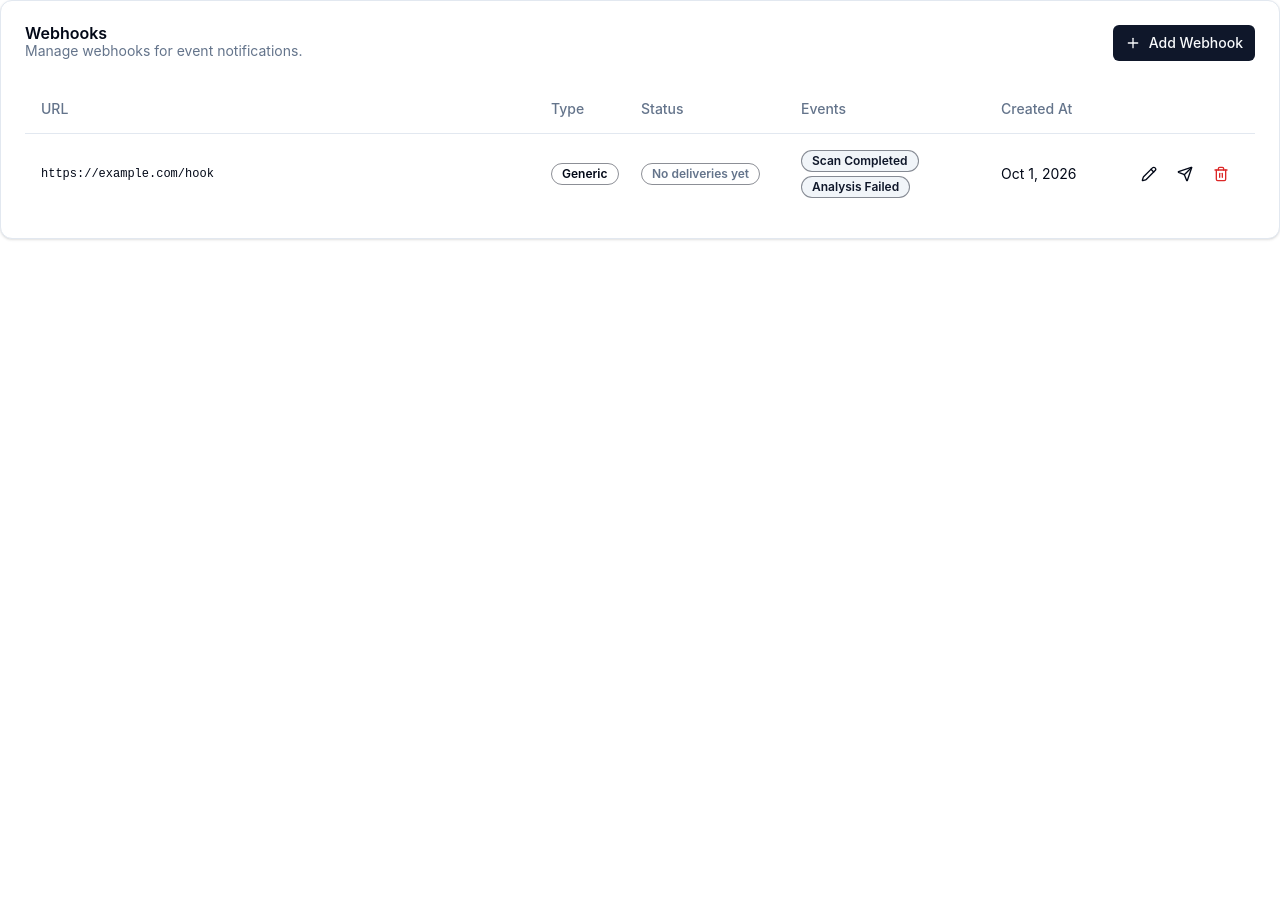
Test: WebhookManager › editing a webhook › opens prefilled with the webhook and offers Save Changes before anything changed, like the other edit dialogs
Click the button named "Edit webhook". click: (1149, 174)
box: [1131,154,1167,194]
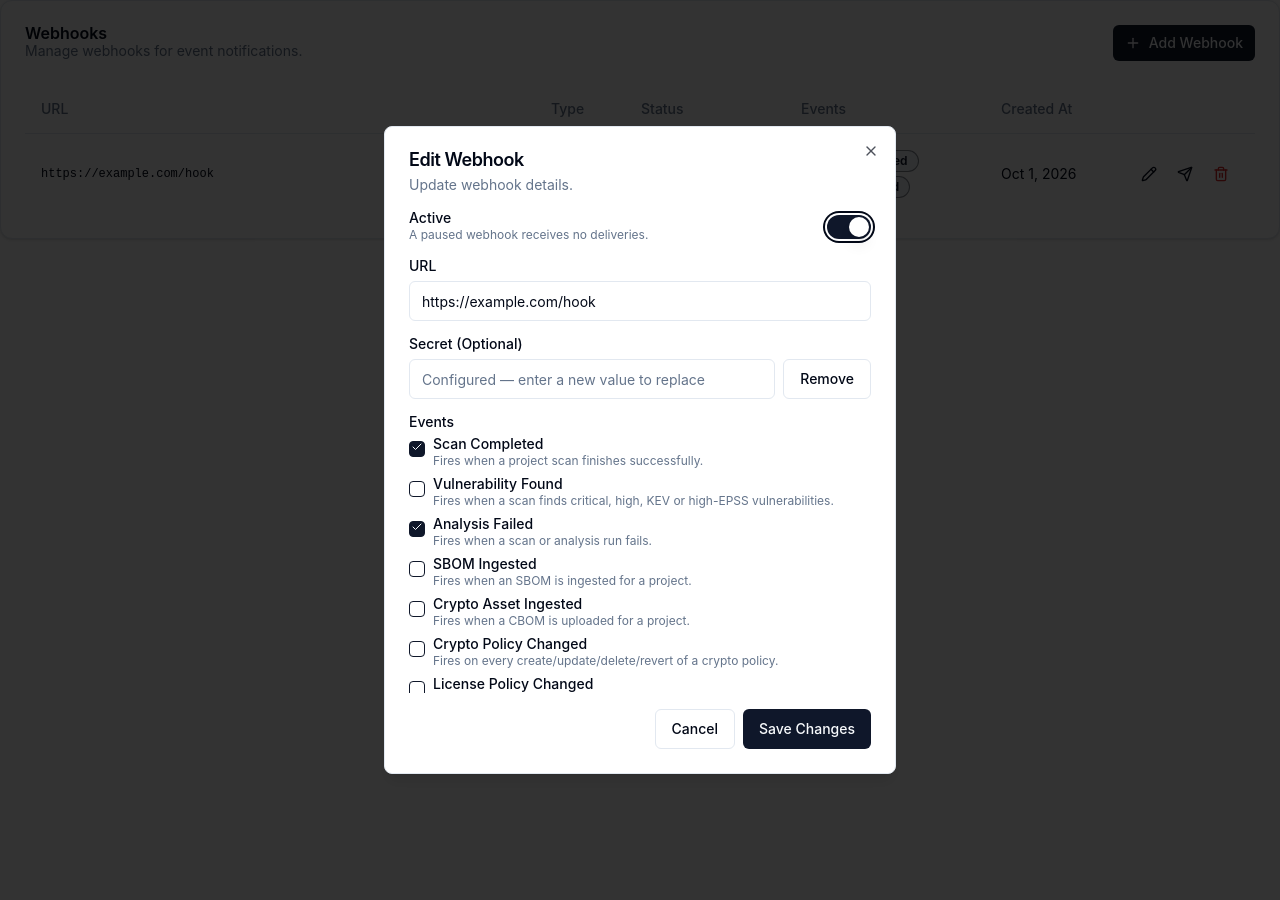
expect the field labelled "URL" holds "https://example.com/hook": met, box [409,281,871,321]
expect the checkbox labelled "Scan Completed" is checked: met, box [409,441,425,457]
expect the checkbox labelled "Analysis Failed" is checked: met, box [409,521,425,537]
